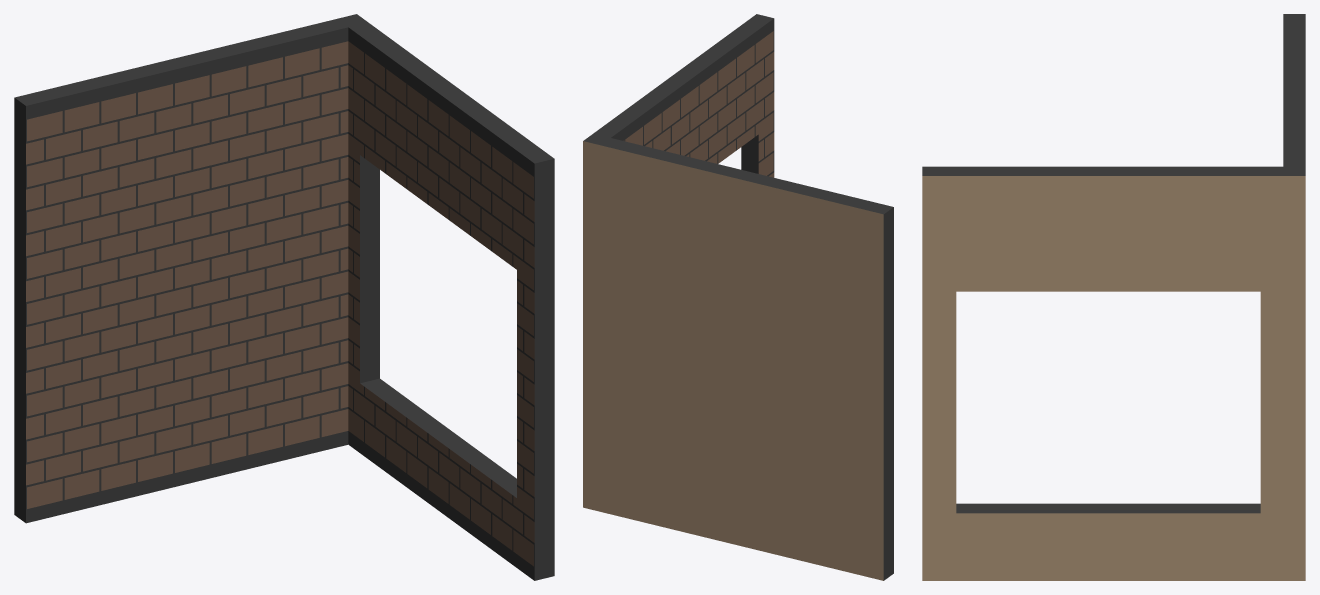
File: Wall3_C10_14.fbx
3 renders of one model, left to right at view 1: azimuth 30°, elevation 25°; view 2: azimuth 150°, elevation 25°; view 3: azimuth 270°, elevation 25°, orthographic. The views are drawn at different scales.
Visible parts, largest first — view 1: Wall3_C10_14; view 2: Wall3_C10_14; view 3: Wall3_C10_14.
Boxes of the visible parts, box(x1,y1,x2,y2) form: Wall3_C10_14: box(14, 14, 554, 580); Wall3_C10_14: box(583, 14, 893, 580); Wall3_C10_14: box(922, 14, 1305, 580).
Size of the model in its own units: 258 by 300 by 258.
